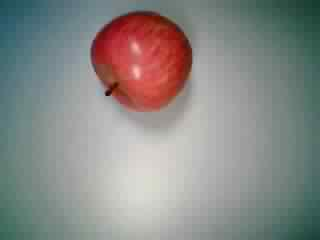apple: (91, 10, 195, 111)
